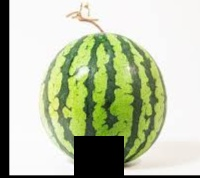watermelon: (36, 31, 167, 167)
